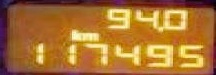-: (154, 25, 163, 31)
0: (160, 8, 185, 29)
1: (32, 41, 43, 64), (65, 43, 76, 64)
4: (112, 42, 138, 65), (132, 8, 158, 28)
5: (176, 43, 203, 67)
7: (83, 43, 107, 64)
9: (143, 43, 172, 67), (105, 6, 129, 29)
X: (67, 27, 80, 40), (81, 31, 99, 40)
